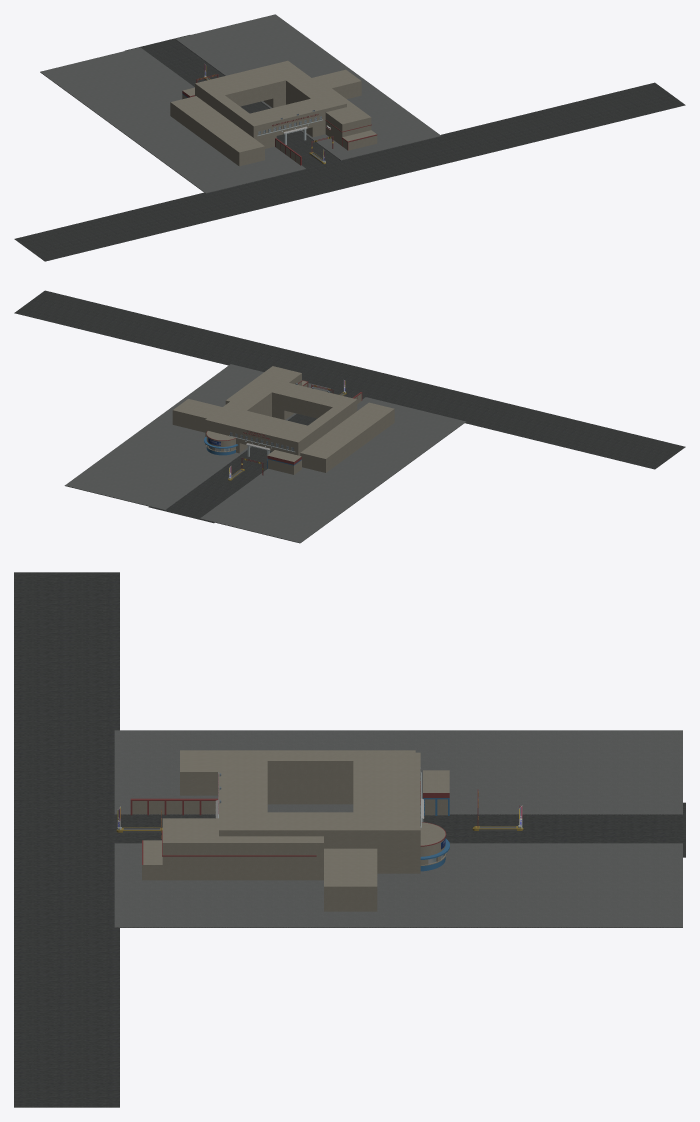
The model's file is AduanaPrincipal.fbx.
3 views of the same model, one above another, from view 1: azimuth 30°, elevation 25°; view 2: azimuth 150°, elevation 25°; view 3: azimuth 270°, elevation 25° (orthographic). The views are drawn at different scales.
Parts seen in each view (by area): view 1: Aduana; view 2: Aduana; view 3: Aduana.
Part boxes in pixels (x1,y1,x2,y2): Aduana: (14, 14, 685, 261); Aduana: (14, 290, 685, 543); Aduana: (14, 572, 685, 1107).
Bounding box in the file's own units: 26036 × 1094 × 13809.
14 materials, 12 textured.
